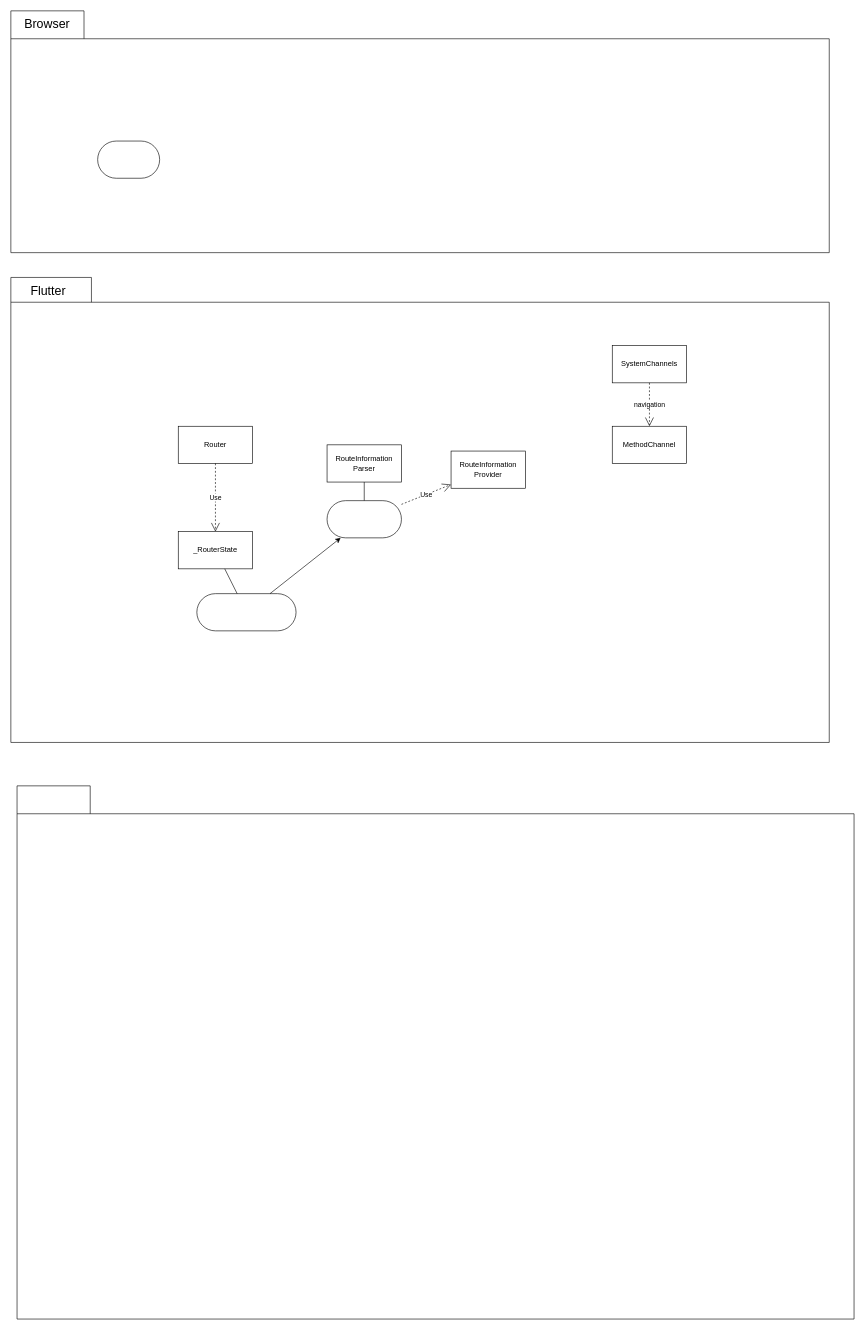
This 865x1330 diagram has some shape labels left out. Each missing label, with the centre of its shape:
"_handleRouteInformation ProviderNotication" goes at (x=246, y=612).
"Devtools" goes at (x=435, y=1052).
"parseRoute Information" goes at (x=363, y=519).
